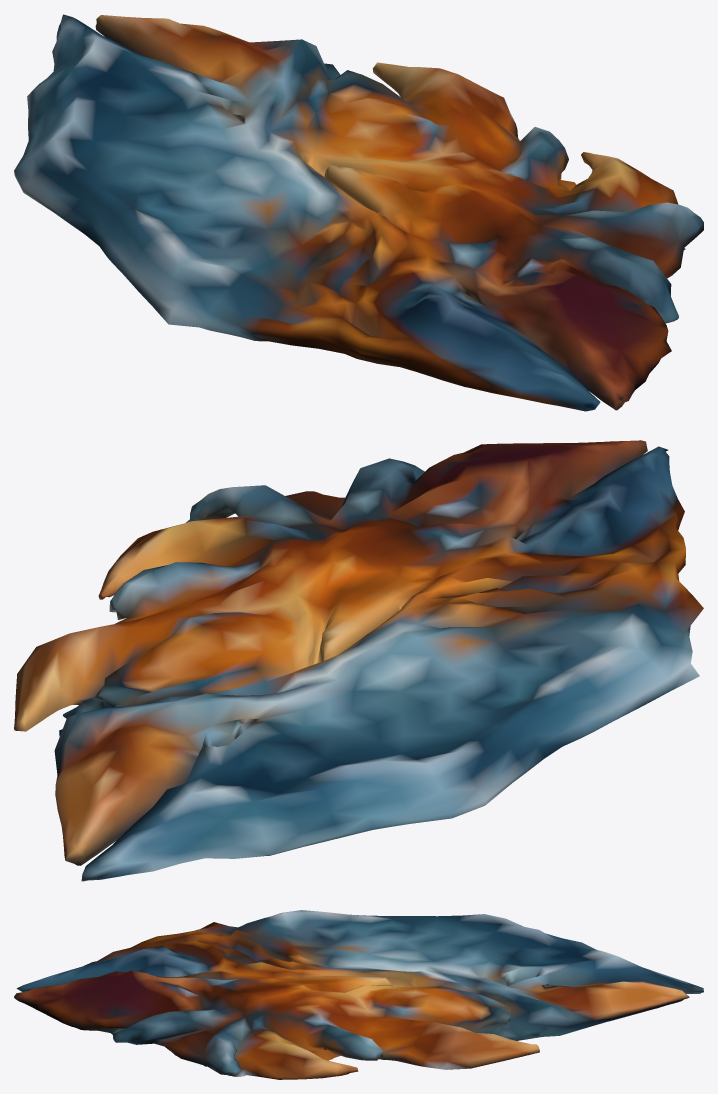
Rendered from FireAndIceCrystal.fbx.
The picture shows the model from 3 angles, top to bottom: view 1: azimuth 30°, elevation 25°; view 2: azimuth 150°, elevation 25°; view 3: azimuth 270°, elevation 25°; orthographic projection. The views are drawn at different scales.
Parts seen in each view (by area): view 1: FireAndIce_Crystal; view 2: FireAndIce_Crystal; view 3: FireAndIce_Crystal.
Boxes of the visible parts, box(x1,y1,x2,y2) form: FireAndIce_Crystal: box(14, 14, 703, 411); FireAndIce_Crystal: box(14, 440, 703, 881); FireAndIce_Crystal: box(14, 910, 703, 1079).
Size of the model in its own units: 0.3212 by 0.5859 by 0.032.
